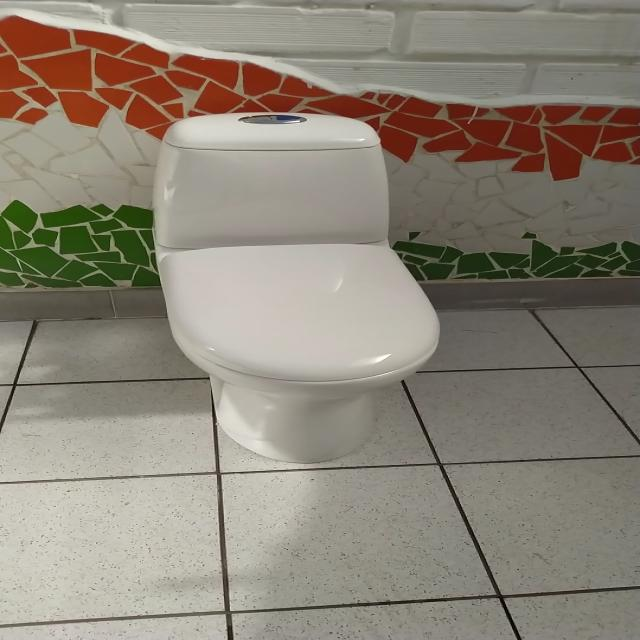toilet: (150, 111, 440, 464)
